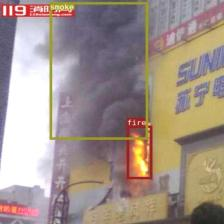fire: (126, 126, 152, 178)
smoke: (50, 2, 148, 139)
